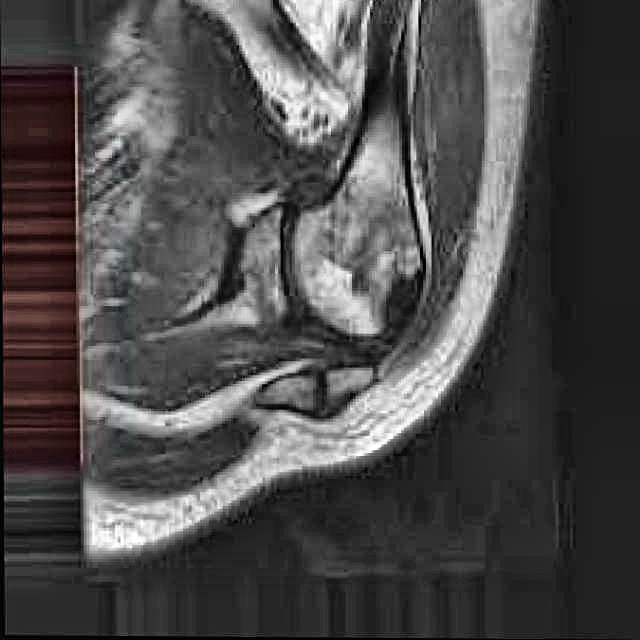Comminuted: (354, 266, 435, 363)
